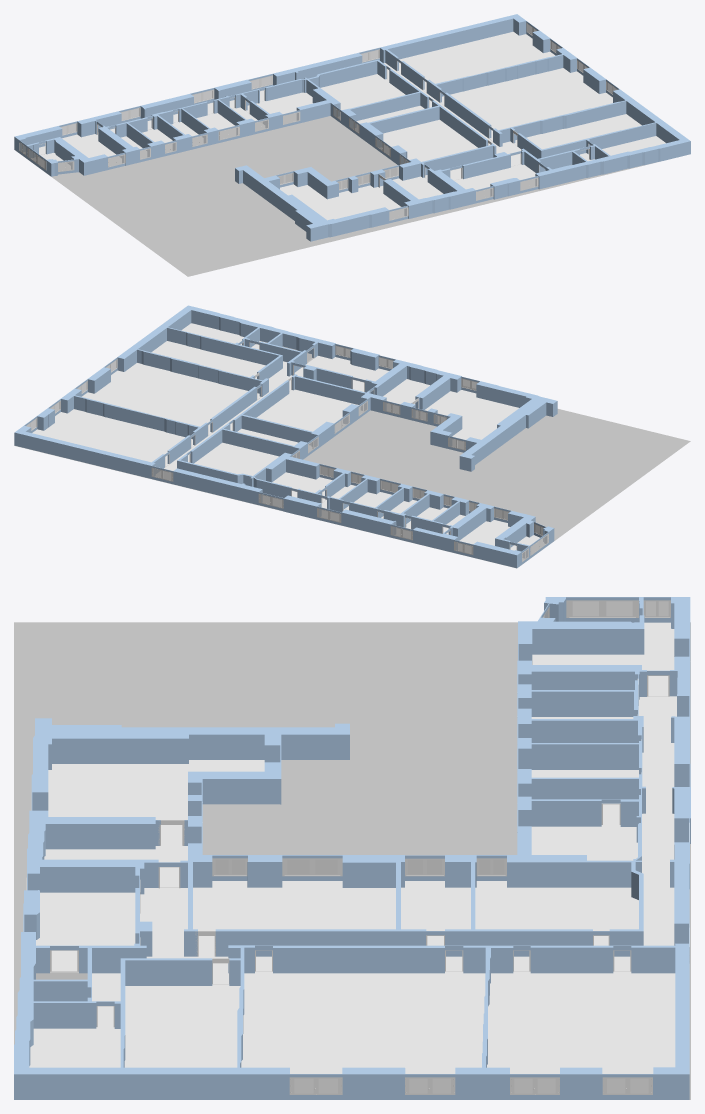
The model's file is 2ndfloor.glb.
The picture shows the model from 3 angles, top to bottom: view 1: azimuth 30°, elevation 25°; view 2: azimuth 150°, elevation 25°; view 3: azimuth 270°, elevation 25°; orthographic projection. The views are drawn at different scales.
Parts seen in each view (by area): view 1: ground_1, room_1102_6439, room_1104_6443, room_1096_6427, room_1097_6429, room_1094_6423, wall_81_484, room_1103_6441, room_1105_6445, room_1099_6433, wall_315_1889, wall_305_1829 (+21 smaller); view 2: ground_1, room_1102_6439, room_1104_6443, room_1097_6429, room_1096_6427, wall_420_2518, room_1094_6423, room_1103_6441, wall_71_424, room_1099_6433, room_1105_6445, wall_160_959 (+20 smaller); view 3: ground_1, room_1102_6439, room_1104_6443, room_1105_6445, room_1096_6427, room_1103_6441, room_1097_6429, room_1094_6423, wall_216_1295, room_1099_6433, wall_417_2500, room_1101_6437 (+40 smaller).
Part boxes in pixels (bbox=[...]): ground_1: bbox=[19, 72, 659, 276]; room_1102_6439: bbox=[440, 68, 612, 140]; room_1104_6443: bbox=[397, 31, 555, 92]; room_1096_6427: bbox=[380, 119, 477, 162]; room_1097_6429: bbox=[280, 184, 403, 220]; room_1094_6423: bbox=[321, 74, 405, 118]; wall_81_484: bbox=[388, 18, 513, 59]; room_1103_6441: bbox=[514, 114, 641, 149]; room_1105_6445: bbox=[98, 63, 588, 180]; room_1099_6433: bbox=[454, 164, 535, 199]; wall_315_1889: bbox=[350, 92, 420, 120]; wall_305_1829: bbox=[370, 106, 439, 133]; ground_1: bbox=[14, 346, 690, 568]; room_1102_6439: bbox=[82, 363, 260, 435]; room_1104_6443: bbox=[32, 409, 194, 466]; room_1097_6429: bbox=[416, 390, 518, 448]; room_1096_6427: bbox=[256, 389, 362, 431]; wall_420_2518: bbox=[14, 432, 151, 478]; room_1094_6423: bbox=[194, 442, 279, 475]; room_1103_6441: bbox=[151, 341, 265, 378]; wall_71_424: bbox=[173, 471, 258, 504]; room_1099_6433: bbox=[294, 356, 388, 391]; room_1105_6445: bbox=[156, 361, 410, 538]; wall_160_959: bbox=[201, 336, 278, 365]; ground_1: bbox=[14, 622, 690, 1099]; room_1102_6439: bbox=[241, 971, 485, 1093]; room_1104_6443: bbox=[487, 971, 675, 1093]; room_1105_6445: bbox=[92, 696, 676, 1026]; room_1096_6427: bbox=[193, 881, 395, 956]; room_1103_6441: bbox=[124, 984, 240, 1067]; room_1097_6429: bbox=[48, 760, 264, 845]; room_1094_6423: bbox=[475, 881, 638, 945]; wall_216_1295: bbox=[14, 1074, 289, 1099]; room_1099_6433: bbox=[36, 892, 135, 971]; wall_417_2500: bbox=[273, 948, 444, 973]; room_1101_6437: bbox=[29, 1027, 120, 1067].
Size of the model in its own units: 10057 by 250 by 6024.
